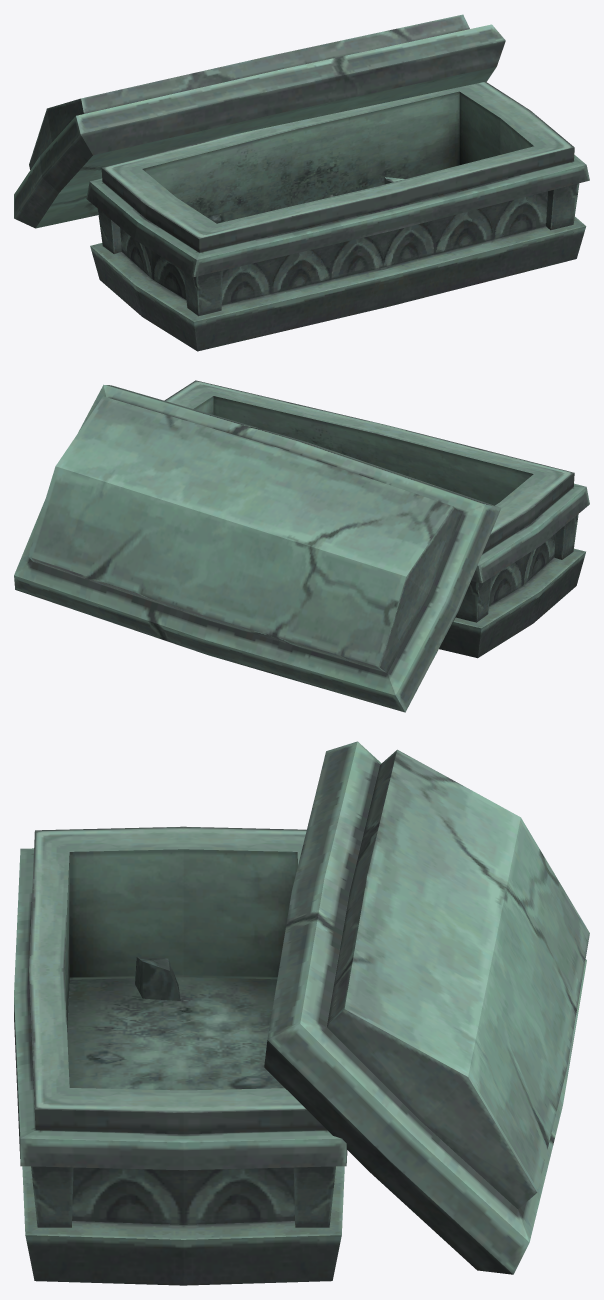
The model's file is crypt_tomb_opened06.fbx.
3 renders of one model, top to bottom at view 1: azimuth 30°, elevation 25°; view 2: azimuth 150°, elevation 25°; view 3: azimuth 270°, elevation 25°, orthographic. The views are drawn at different scales.
Parts seen in each view (by area): view 1: obj0.017; view 2: obj0.017; view 3: obj0.017.
Boxes of the visible parts, x1=… form: obj0.017: x1=14, y1=14, x2=589, y2=351; obj0.017: x1=14, y1=380, x2=589, y2=712; obj0.017: x1=14, y1=741, x2=589, y2=1285.
Size of the model in its own units: 2.95 by 1.16 by 2.3.
